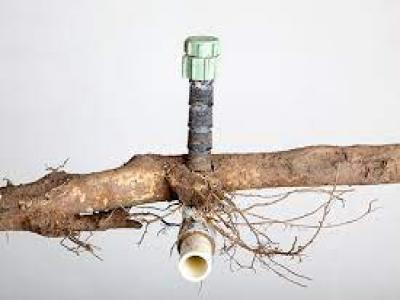Root: (0, 82, 399, 254)
